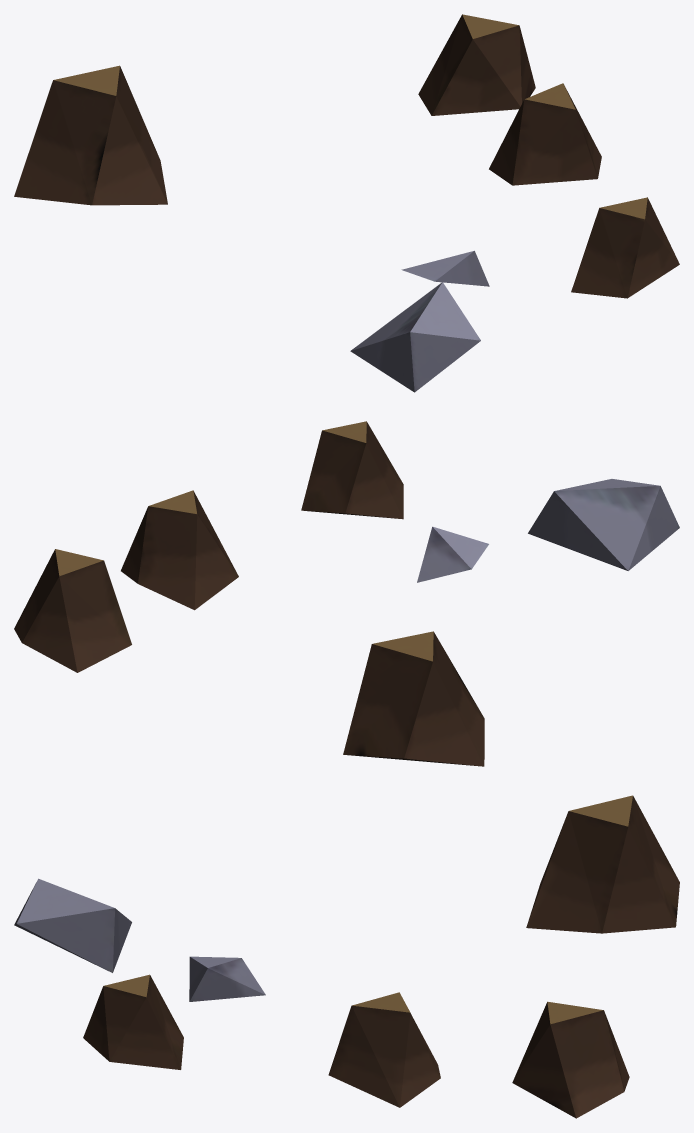
Rendered from waste_2_ruin_lod2.fbx.
The picture shows the model from 3 angles, top to bottom: view 1: azimuth 30°, elevation 25°; view 2: azimuth 150°, elevation 25°; view 3: azimuth 270°, elevation 25°; orthographic projection. The views are drawn at different scales.
Visible parts, largest first — view 1: waste_2_ruin_LOD2; view 2: waste_2_ruin_LOD2; view 3: waste_2_ruin_LOD2.
Boxes of the visible parts, x1=… form: waste_2_ruin_LOD2: x1=14, y1=14, x2=679, y2=392; waste_2_ruin_LOD2: x1=14, y1=421, x2=679, y2=766; waste_2_ruin_LOD2: x1=14, y1=795, x2=679, y2=1118.
Bounding box in the file's own units: 0.024 × 0.00468 × 0.0274.
